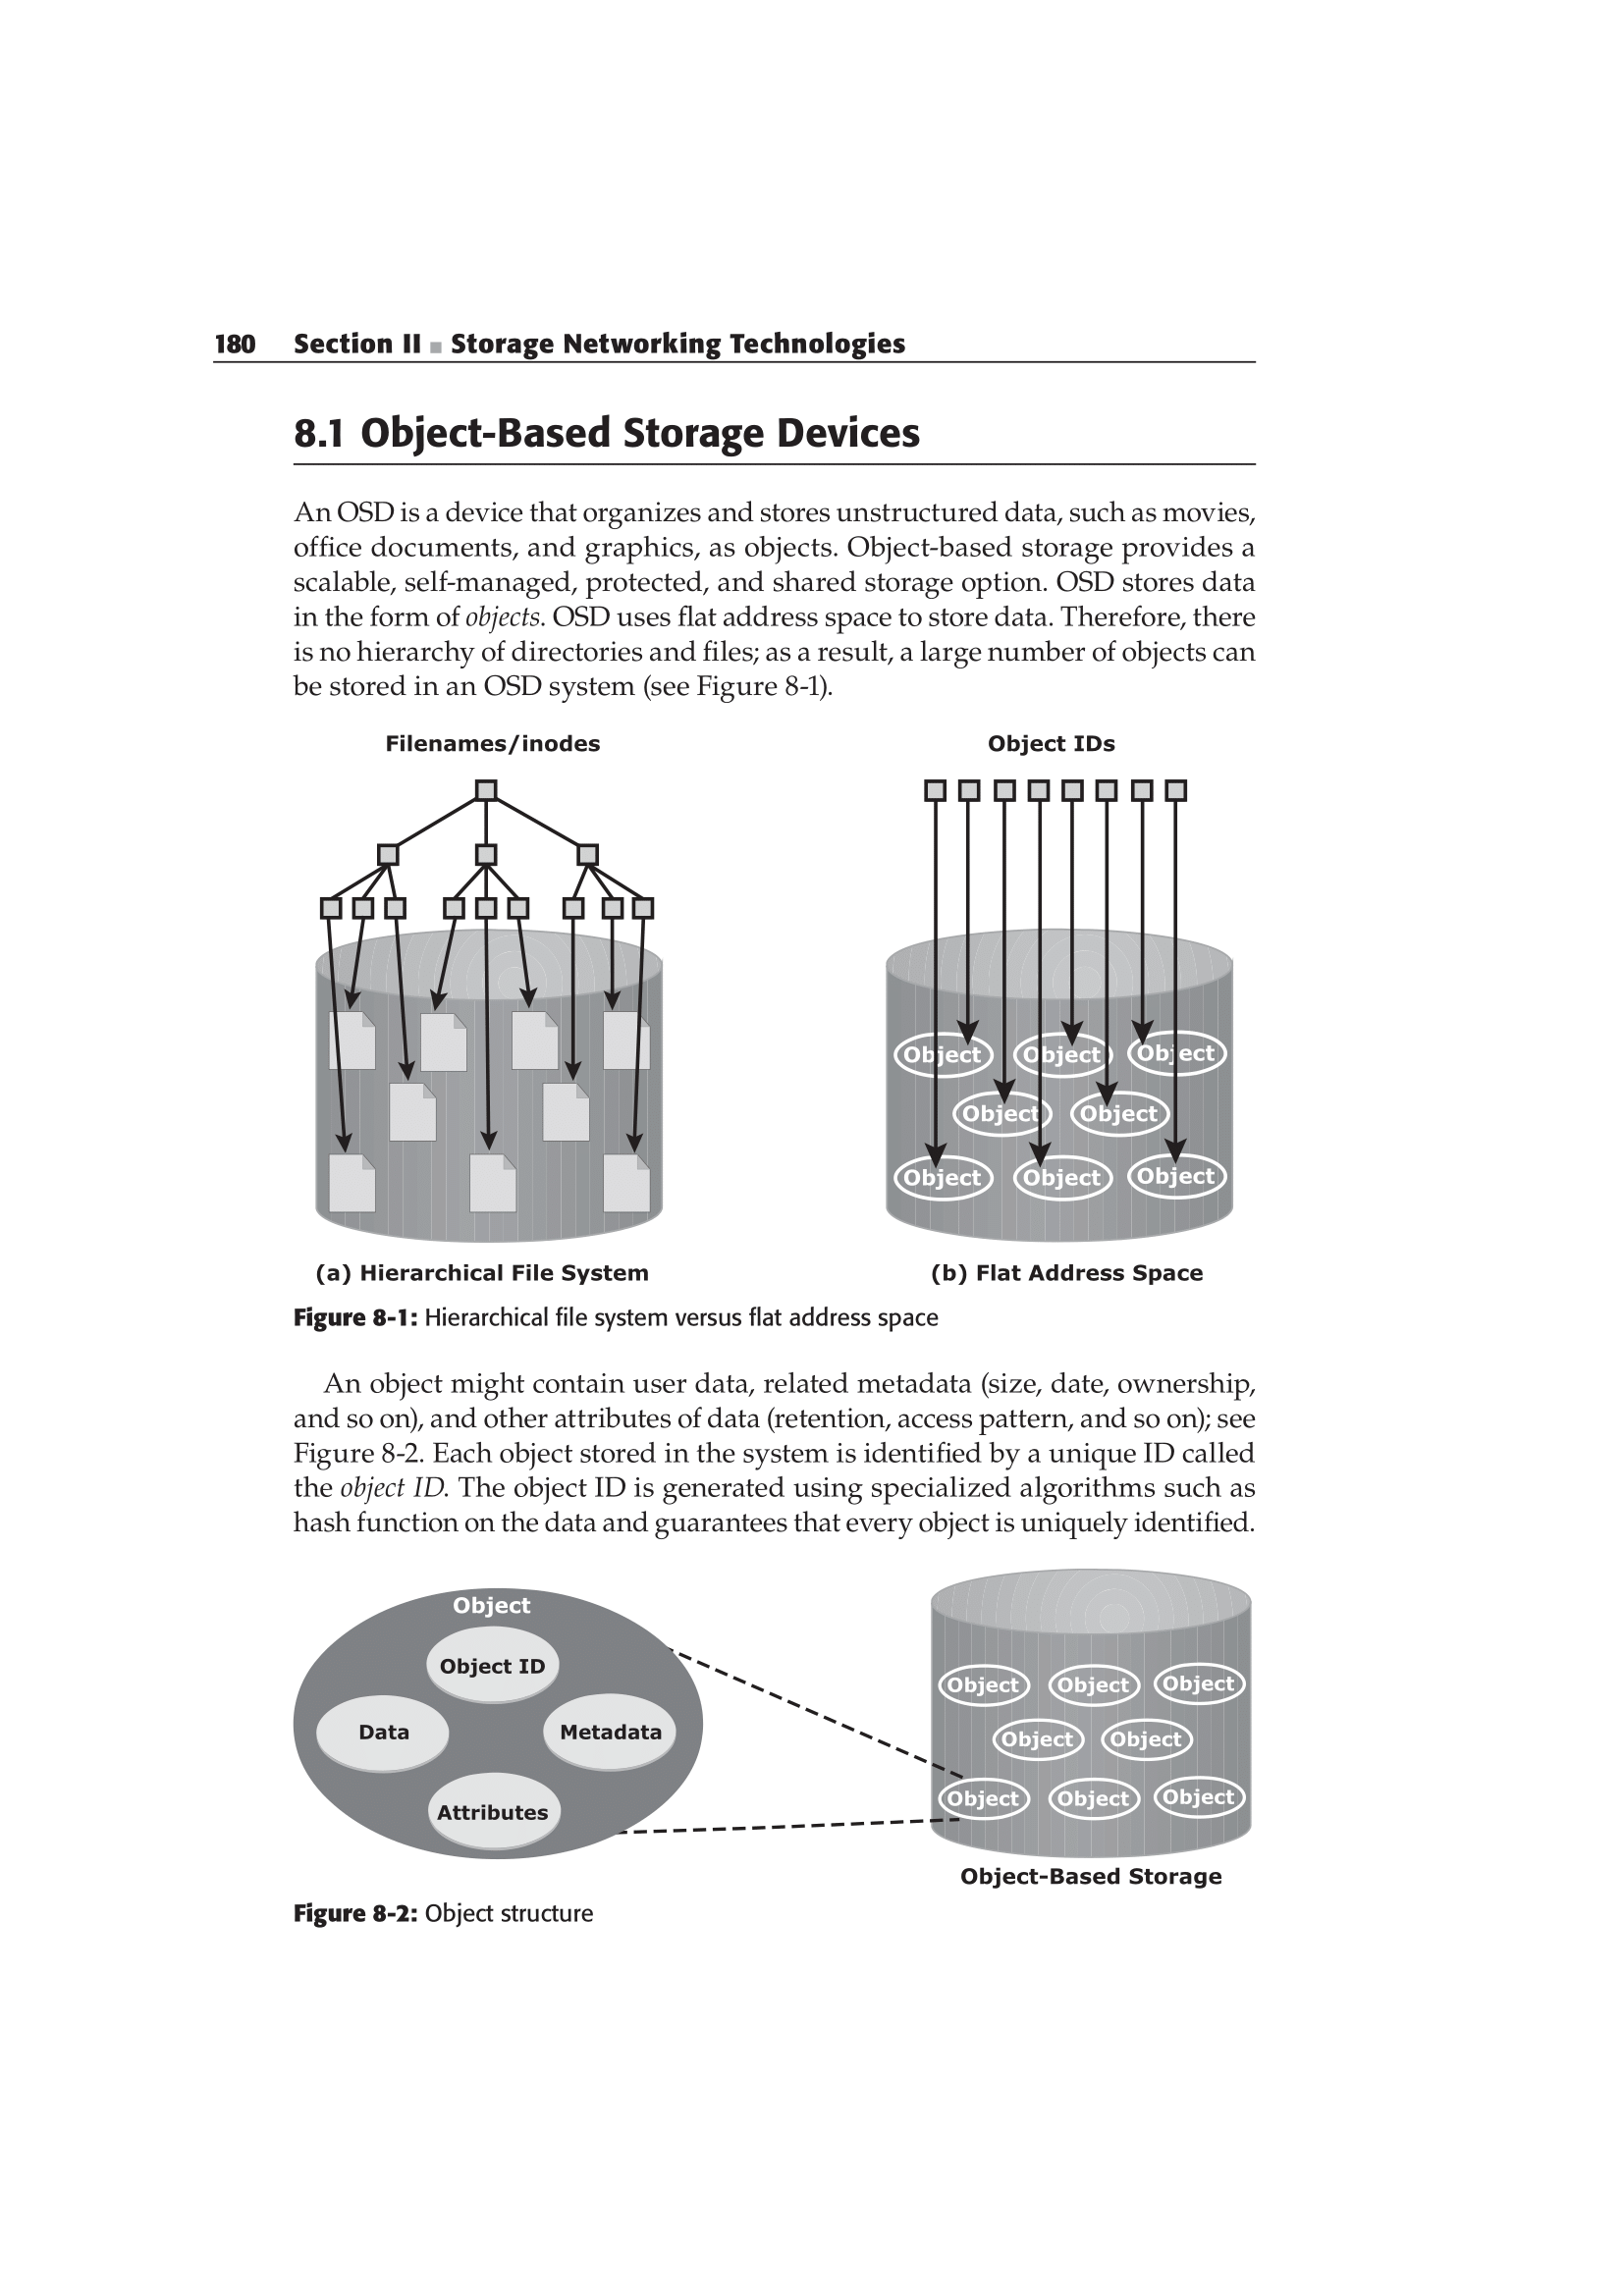Image: (260, 1561, 1288, 1899), (283, 713, 717, 1283), (848, 707, 1282, 1278)
Paragraph: (265, 497, 1270, 702), (279, 1352, 1279, 1557), (269, 383, 954, 474), (188, 325, 917, 360)
